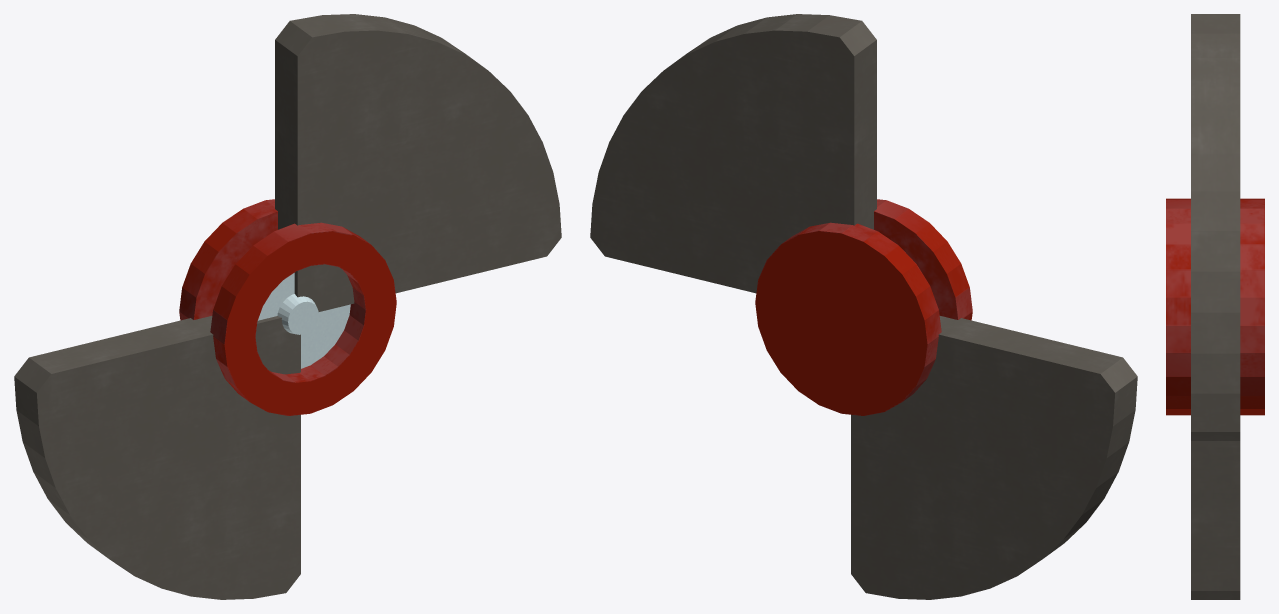
Rendered from module-spring-01.glb.
3 renders of one model, left to right at view 1: azimuth 30°, elevation 25°; view 2: azimuth 150°, elevation 25°; view 3: azimuth 270°, elevation 25°, orthographic. The views are drawn at different scales.
Parts seen in each view (by area): view 1: Mesh_0.001; view 2: Mesh_0.001; view 3: Mesh_0.001.
Boxes of the visible parts, x1=… form: Mesh_0.001: x1=14, y1=14, x2=561, y2=599; Mesh_0.001: x1=590, y1=14, x2=1137, y2=599; Mesh_0.001: x1=1166, y1=14, x2=1264, y2=599.
Bounding box in the file's own units: 1.69 × 1.69 × 0.2525.
Materials: 1 (1 with a texture image).
